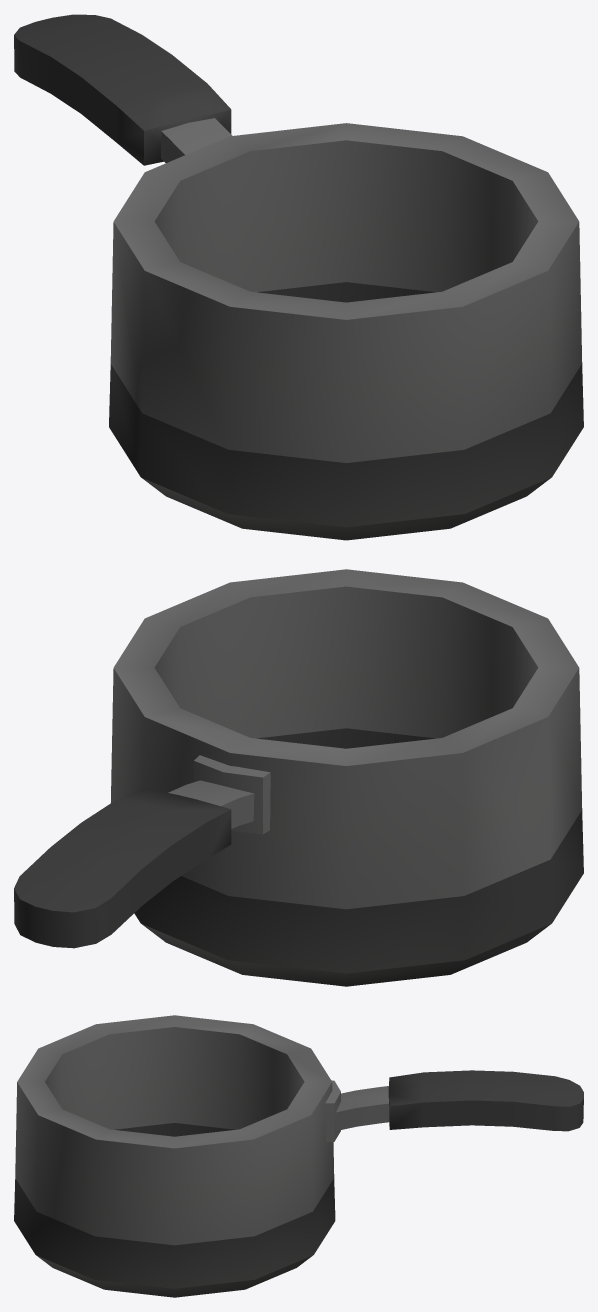
File: Saucepan_01.fbx
The picture shows the model from 3 angles, top to bottom: view 1: azimuth 30°, elevation 25°; view 2: azimuth 150°, elevation 25°; view 3: azimuth 270°, elevation 25°; orthographic projection. The views are drawn at different scales.
Visible parts, largest first — view 1: Saucepan_01; view 2: Saucepan_01; view 3: Saucepan_01.
Boxes of the visible parts, <box> form: Saucepan_01: <box>14,14,583,540</box>; Saucepan_01: <box>14,569,583,986</box>; Saucepan_01: <box>14,1015,583,1297</box>.
Size of the model in its own units: 78.26 by 41.99 by 139.
